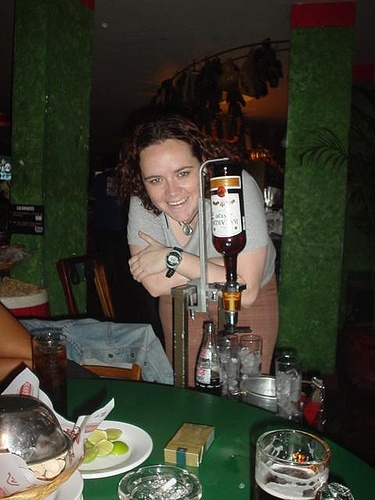head: (123, 115, 209, 226)
person: (114, 113, 286, 380)
